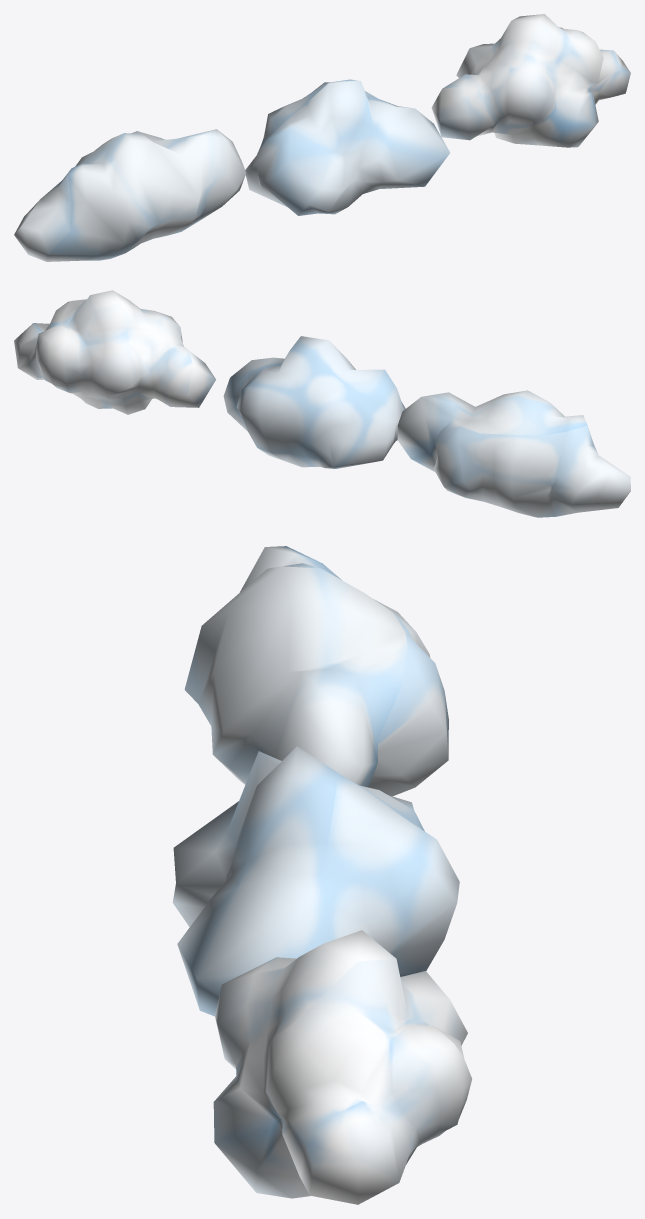
File: 3d clouds.fbx
3 views of the same model, one above another, from view 1: azimuth 30°, elevation 25°; view 2: azimuth 150°, elevation 25°; view 3: azimuth 270°, elevation 25° (orthographic). The views are drawn at different scales.
Visible parts, largest first — view 1: Icosphere.001, Icosphere.002, Icosphere.003; view 2: Icosphere.001, Icosphere.002, Icosphere.003; view 3: Icosphere.003, Icosphere.002, Icosphere.001.
Boxes of the visible parts, bbox=[...] form: Icosphere.001: bbox=[14, 129, 246, 261]; Icosphere.002: bbox=[245, 79, 449, 215]; Icosphere.003: bbox=[431, 14, 630, 147]; Icosphere.001: bbox=[397, 390, 630, 517]; Icosphere.002: bbox=[223, 336, 405, 468]; Icosphere.003: bbox=[14, 290, 215, 414]; Icosphere.003: bbox=[213, 930, 471, 1204]; Icosphere.002: bbox=[172, 746, 459, 1016]; Icosphere.001: bbox=[184, 546, 448, 796].
Bounding box in the file's own units: 27.17 × 5.21 × 5.84.
